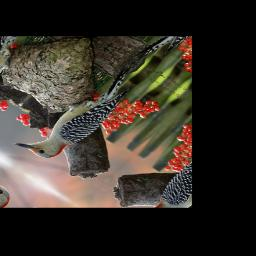Woodpecker: (9, 47, 153, 171)
